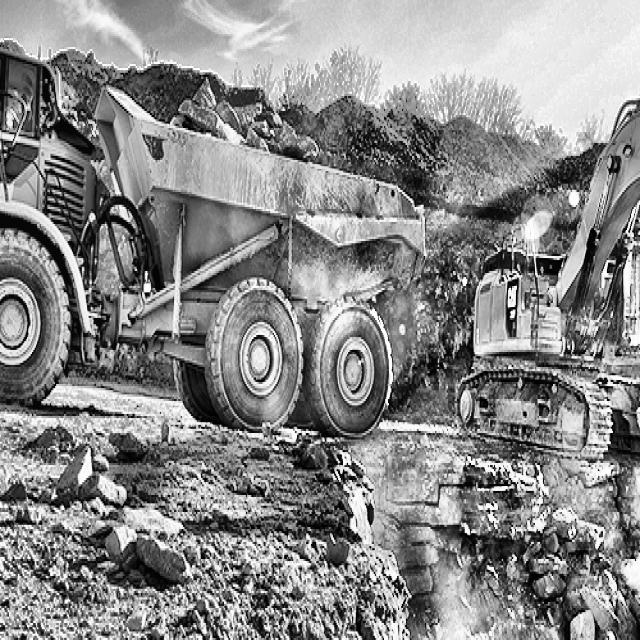dump_truck: (0, 0, 432, 452)
excavator: (459, 13, 640, 589)
